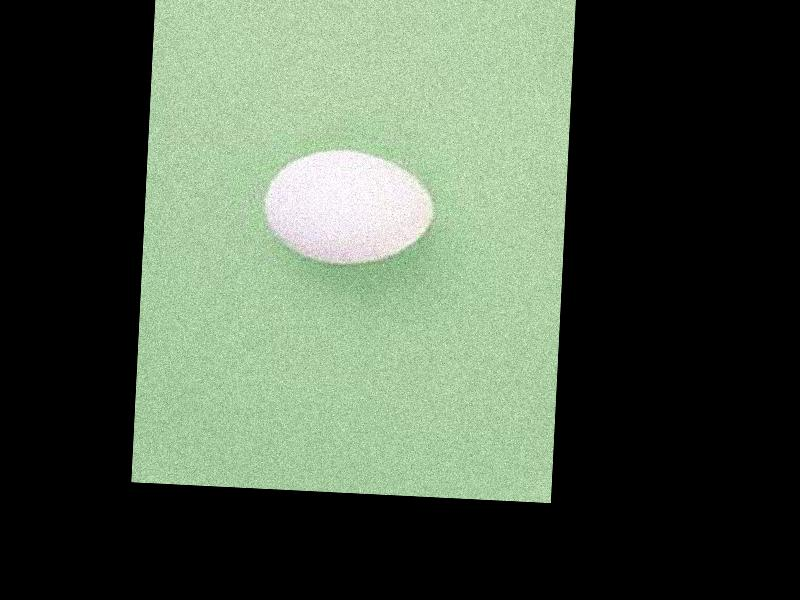Eggs: (259, 146, 436, 270)
